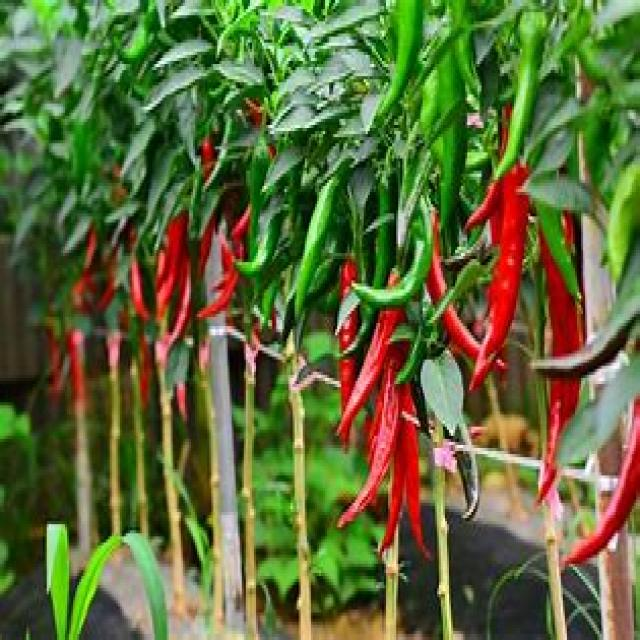Mosaic_virus: (2, 0, 640, 510)
